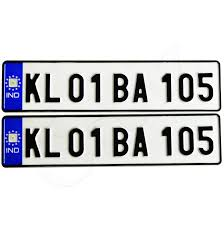inlp: (1, 58, 224, 114), (1, 112, 222, 168)
